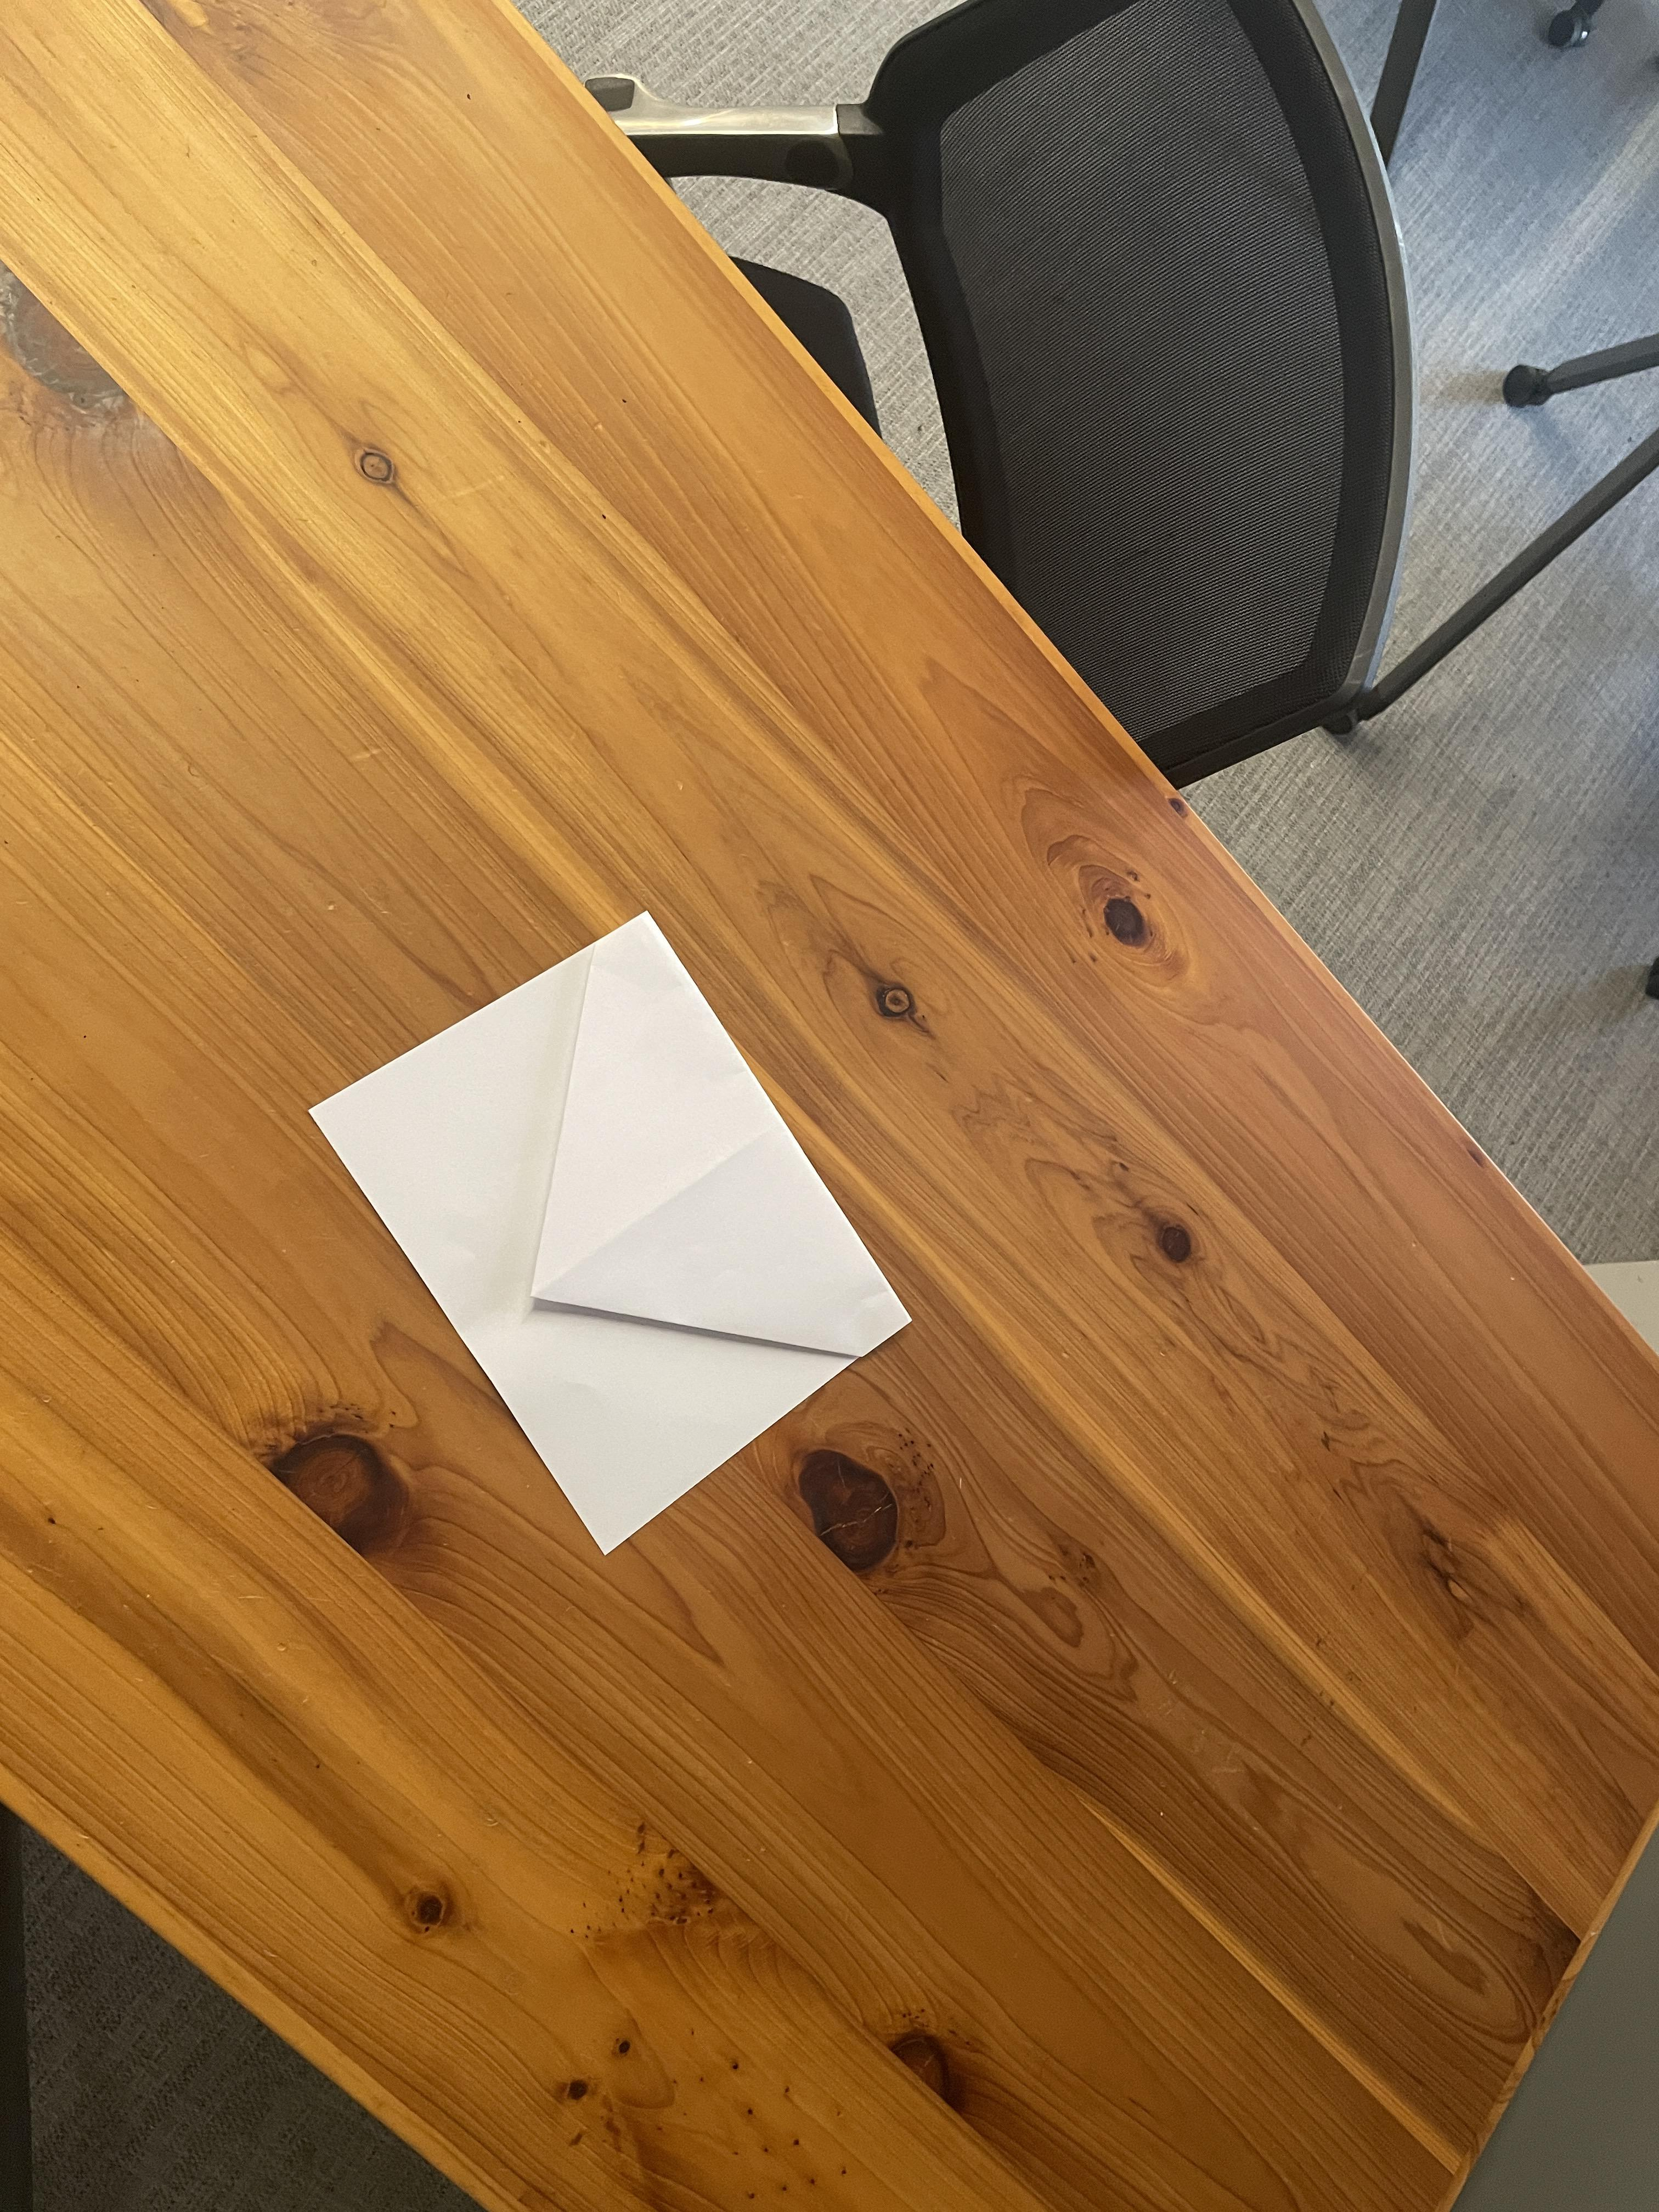shape_1: (247, 725, 1026, 1723)
